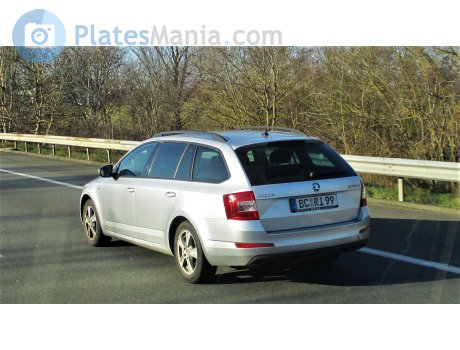License Plates: (295, 194, 339, 210)
